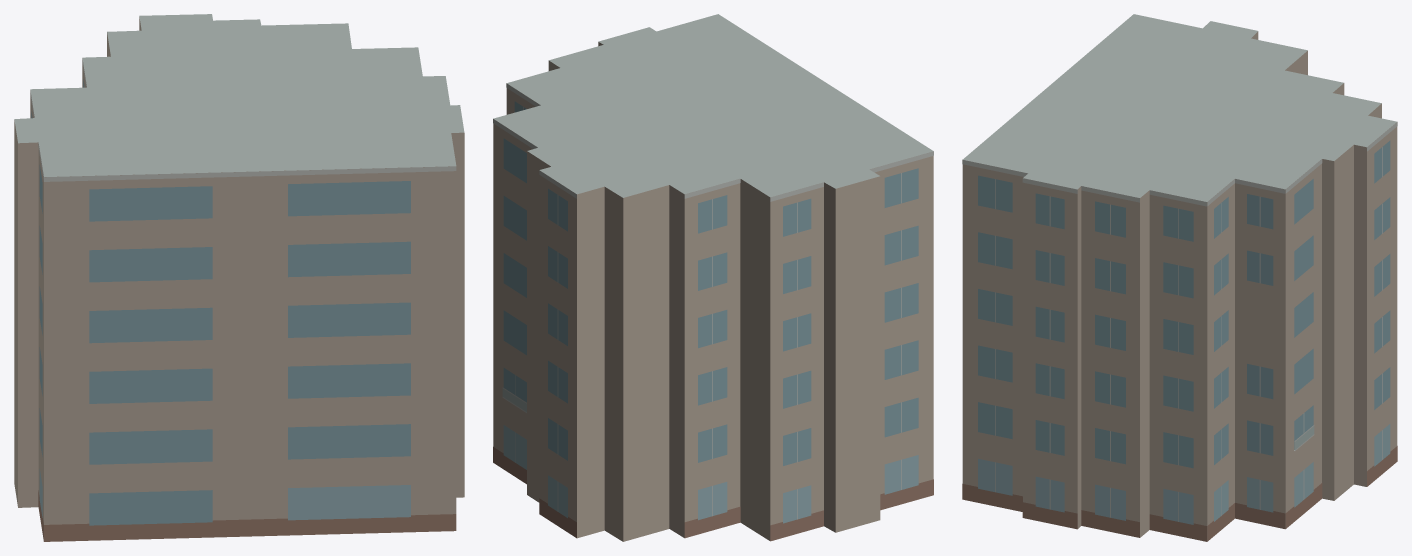
The model's file is survey-upis-32960172.glb.
3 views of the same model, side by side, from view 1: azimuth 30°, elevation 25°; view 2: azimuth 150°, elevation 25°; view 3: azimuth 270°, elevation 25° (orthographic). The views are drawn at different scales.
Visible parts, largest first — view 1: survey-upis-32960172.tmp; view 2: survey-upis-32960172.tmp; view 3: survey-upis-32960172.tmp.
Part boxes in pixels (<box>): survey-upis-32960172.tmp: <box>14,14,464,541</box>; survey-upis-32960172.tmp: <box>493,14,933,541</box>; survey-upis-32960172.tmp: <box>962,14,1397,541</box>.
Size of the model in its own units: 21.85 by 18.4 by 21.36.
